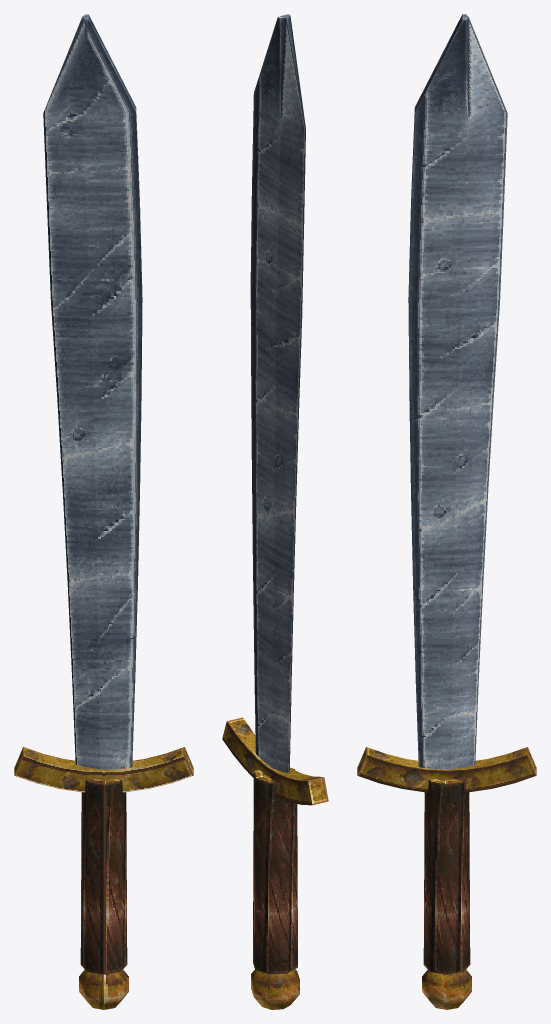
File: falchion.glb
3 renders of one model, left to right at view 1: azimuth 90°, elevation 25°; view 2: azimuth 210°, elevation 25°; view 3: azimuth 270°, elevation 25°, orthographic.
Visible parts, largest first — view 1: falchion; view 2: falchion; view 3: falchion.
Boxes of the visible parts, x1=… form: falchion: x1=14, y1=14, x2=193, y2=1009; falchion: x1=222, y1=14, x2=328, y2=1009; falchion: x1=357, y1=14, x2=536, y2=1009.
Bounding box in the file's own units: 0.0323 × 0.7057 × 0.1157.
1 material, 1 textured.
